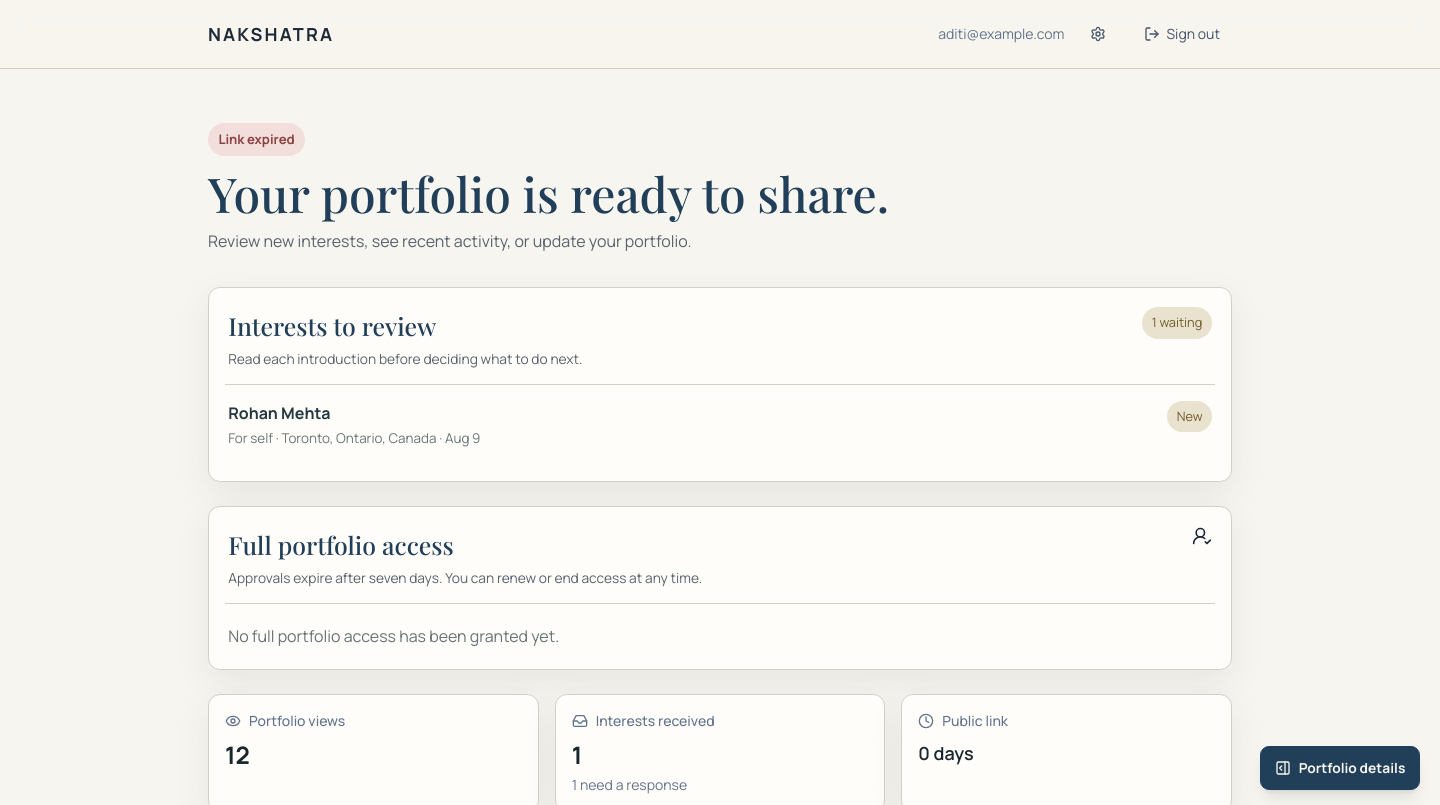
Test: dashboard client › lets an owner approve a signed-in interest from the dashboard
The image size is (1440, 805).
Step 1. Click the text "Rohan Mehta" → point(279, 413), box top-left (228, 402), bottom-right (330, 424)
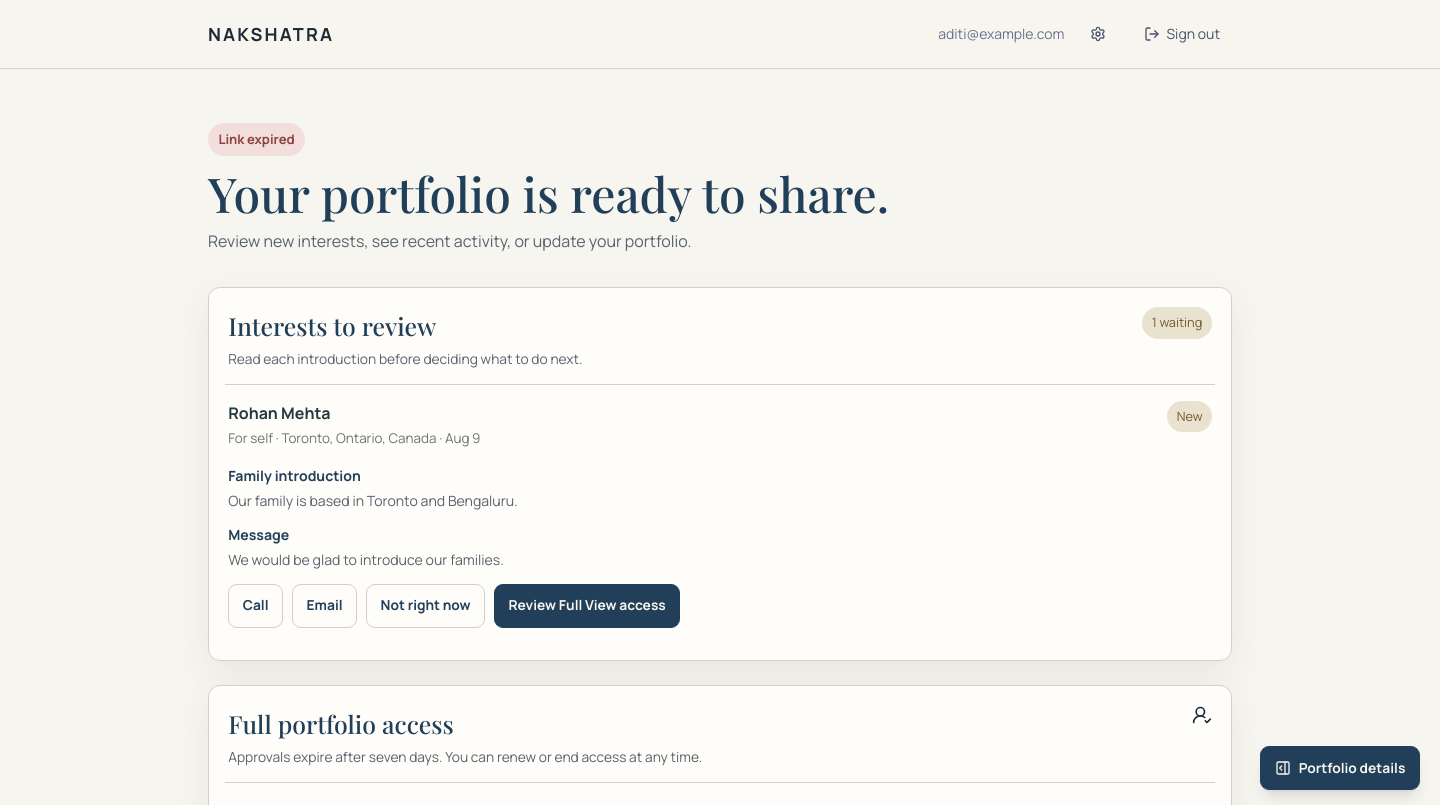
Check: the text "For self · Toronto, Ontario, Canada · Aug 9" is shown, box top-left (228, 428), bottom-right (480, 449)
Step 2. Click the button "Review Full View access" → point(587, 606), box top-left (494, 584), bottom-right (680, 628)
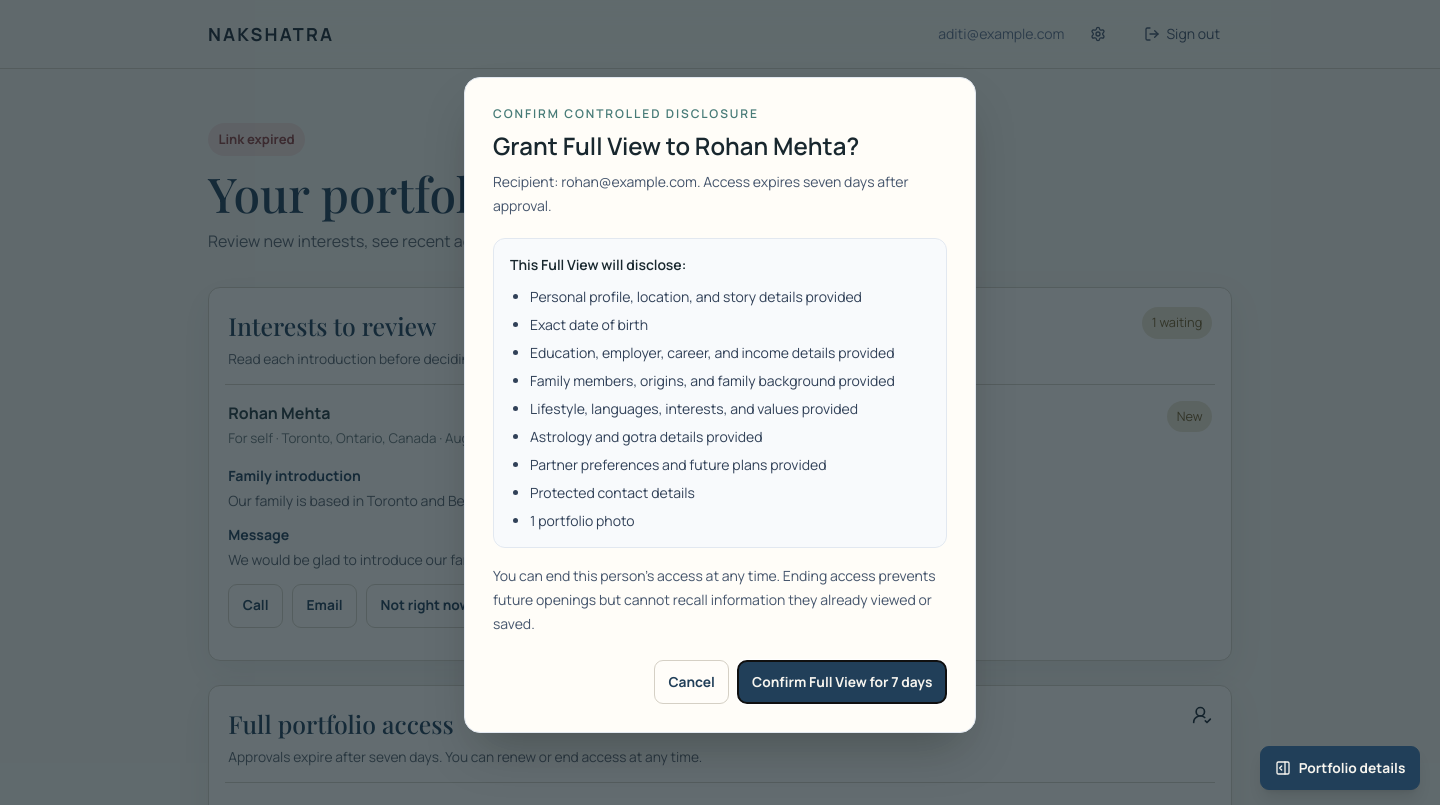
Check: the text "Access expires seven days after approval" is shown, box top-left (493, 172), bottom-right (909, 215)
Check: the list item "Personal profile, location, and story details provided" is shown, box top-left (530, 287), bottom-right (862, 306)
Check: the list item "Exact date of birth" is shown, box top-left (530, 315), bottom-right (648, 334)
Step 3. Click the button "Confirm Full View for 7 days" → point(842, 682), box top-left (737, 660), bottom-right (947, 704)
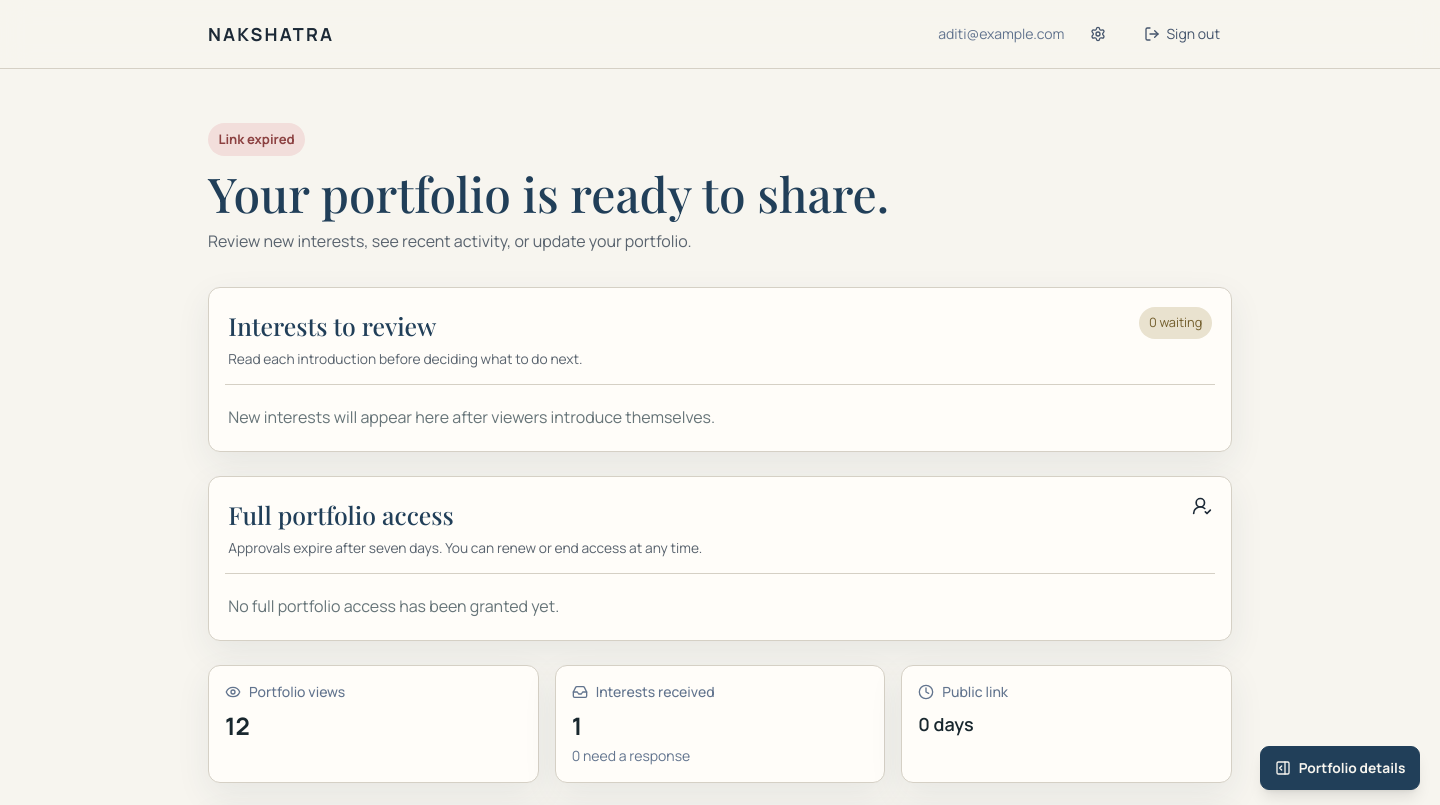
Check: the text "0 waiting" is shown, box top-left (1139, 307), bottom-right (1212, 338)
